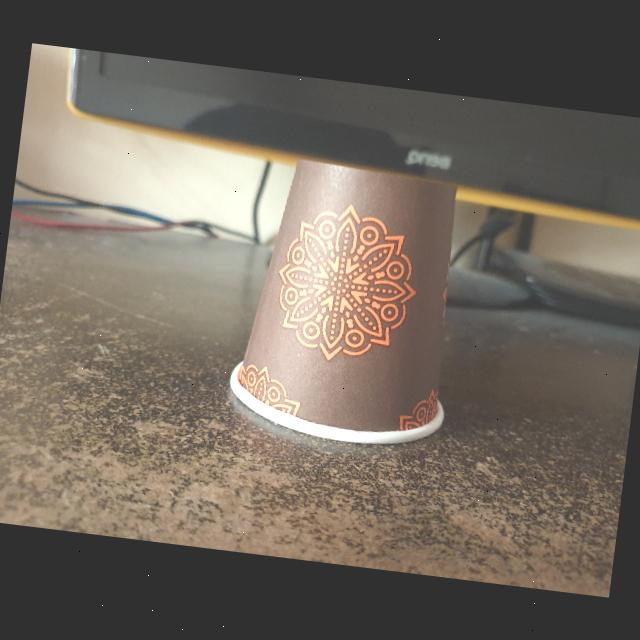trash: (217, 138, 482, 466)
